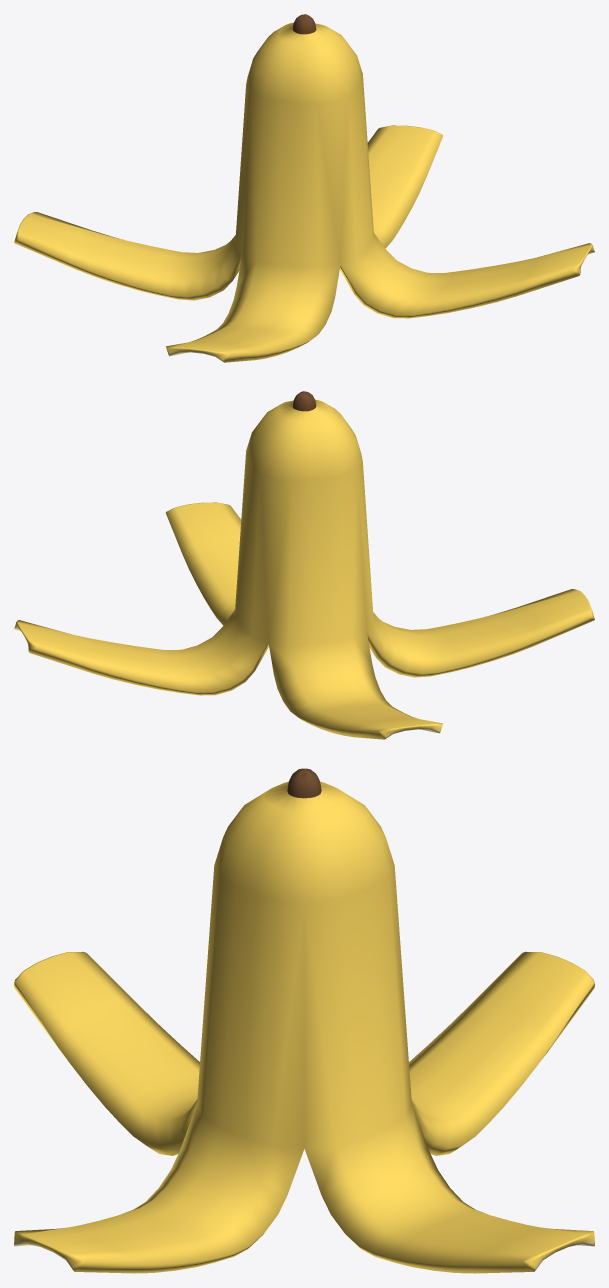
Rendered from Banana peel.fbx.
The picture shows the model from 3 angles, top to bottom: view 1: azimuth 30°, elevation 25°; view 2: azimuth 150°, elevation 25°; view 3: azimuth 270°, elevation 25°; orthographic projection. The views are drawn at different scales.
Visible parts, largest first — view 1: Banana Peel; view 2: Banana Peel; view 3: Banana Peel.
Boxes of the visible parts, left/top/right/bottom form: Banana Peel: left=14, top=14, right=594, bottom=362; Banana Peel: left=14, top=391, right=594, bottom=739; Banana Peel: left=14, top=768, right=594, bottom=1273.
Bounding box in the file's own units: 5.17 × 3.21 × 4.09.
